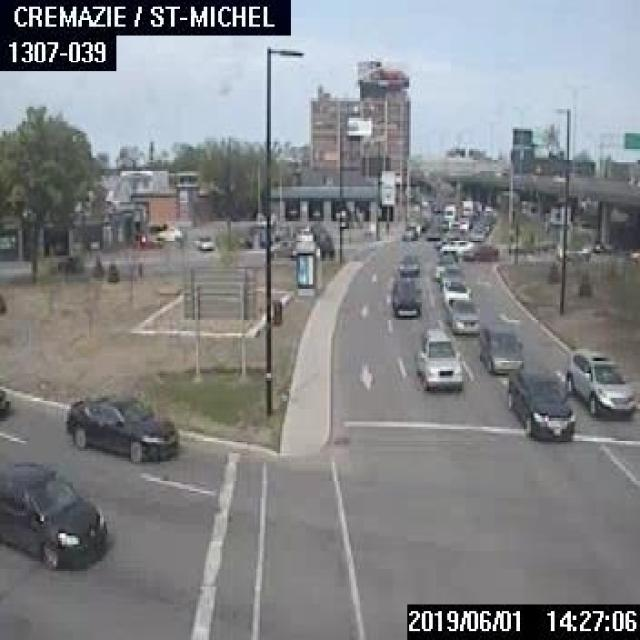vehicle: (0, 458, 105, 569), (60, 387, 178, 462), (506, 366, 574, 441), (564, 348, 634, 415), (413, 323, 463, 389), (478, 322, 522, 372), (390, 275, 420, 316), (446, 298, 478, 333), (441, 277, 471, 309), (462, 243, 497, 260), (438, 264, 465, 286), (434, 253, 455, 279), (439, 238, 473, 254), (396, 253, 420, 275), (556, 244, 588, 259), (269, 238, 294, 256), (0, 384, 11, 416), (156, 225, 181, 239), (136, 233, 162, 246), (193, 233, 213, 248), (460, 197, 471, 215), (470, 226, 484, 240), (442, 203, 453, 218), (457, 215, 468, 229)
